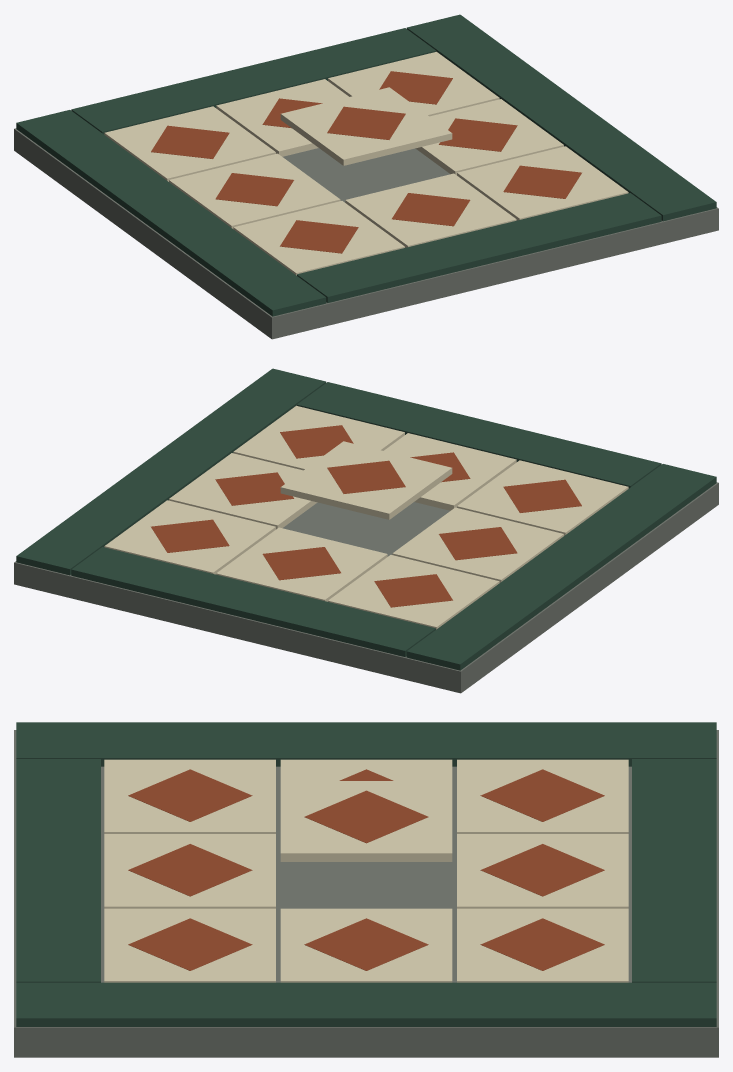
File: source-edit.glb
3 renders of one model, top to bottom at view 1: azimuth 30°, elevation 25°; view 2: azimuth 150°, elevation 25°; view 3: azimuth 270°, elevation 25°, orthographic. The views are drawn at different scales.
Parts seen in each view (by area): view 1: BASE_Mortar, BORDER_X_-1, BORDER_X_1, BORDER_Y_-1, BORDER_Y_1, TILE_Field_1_1, TILE_Field_0_1, TILE_Field_0_2, TILE_Field_1_0, TILE_Field_2_0, TILE_Field_0_0, TILE_Field_2_1 (+11 smaller); view 2: BASE_Mortar, BORDER_X_-1, BORDER_X_1, BORDER_Y_1, BORDER_Y_-1, TILE_Field_1_1, TILE_Field_0_1, TILE_Field_0_0, TILE_Field_1_2, TILE_Field_2_2, TILE_Field_0_2, TILE_Field_2_1 (+11 smaller); view 3: BASE_Mortar, BORDER_X_1, BORDER_X_-1, BORDER_Y_-1, BORDER_Y_1, TILE_Field_1_1, TILE_Field_2_1, TILE_Field_0_0, TILE_Field_0_2, TILE_Field_1_0, TILE_Field_1_2, TILE_Field_2_0 (+10 smaller).
Boxes of the visible parts, box(x1,y1,x2,y2) form: BASE_Mortar: box(14, 128, 718, 339); BORDER_X_-1: box(16, 110, 326, 316); BORDER_X_1: box(406, 14, 716, 221); BORDER_Y_-1: box(297, 193, 661, 302); BORDER_Y_1: box(71, 28, 435, 134); TILE_Field_1_1: box(280, 87, 452, 165); TILE_Field_0_1: box(169, 153, 340, 228); TILE_Field_0_2: box(104, 106, 275, 181); TILE_Field_1_0: box(345, 173, 516, 247); TILE_Field_2_0: box(457, 146, 628, 220); TILE_Field_0_0: box(233, 201, 404, 275); TILE_Field_2_1: box(415, 99, 563, 175); BASE_Mortar: box(14, 482, 718, 693); BORDER_X_-1: box(406, 464, 716, 670); BORDER_X_1: box(16, 368, 326, 575); BORDER_Y_1: box(71, 547, 435, 656); BORDER_Y_-1: box(297, 382, 661, 488); TILE_Field_1_1: box(280, 441, 452, 519); TILE_Field_0_1: box(392, 507, 563, 582); TILE_Field_0_0: box(457, 460, 628, 535); TILE_Field_1_2: box(216, 527, 387, 601); TILE_Field_2_2: box(104, 500, 275, 574); TILE_Field_0_2: box(328, 555, 499, 629); TILE_Field_2_1: box(169, 453, 317, 529); BASE_Mortar: box(14, 730, 718, 1057); BORDER_X_1: box(16, 982, 716, 1026); BORDER_X_-1: box(16, 722, 716, 766); BORDER_Y_-1: box(16, 759, 100, 982); BORDER_Y_1: box(632, 759, 716, 982); TILE_Field_1_1: box(280, 781, 452, 861); TILE_Field_2_1: box(280, 908, 452, 982); TILE_Field_0_0: box(104, 759, 275, 833); TILE_Field_0_2: box(457, 759, 628, 833); TILE_Field_1_0: box(104, 834, 275, 908); TILE_Field_1_2: box(457, 834, 628, 908); TILE_Field_2_0: box(104, 908, 275, 982).
Size of the model in its own units: 0.6 by 0.0862 by 0.6.
